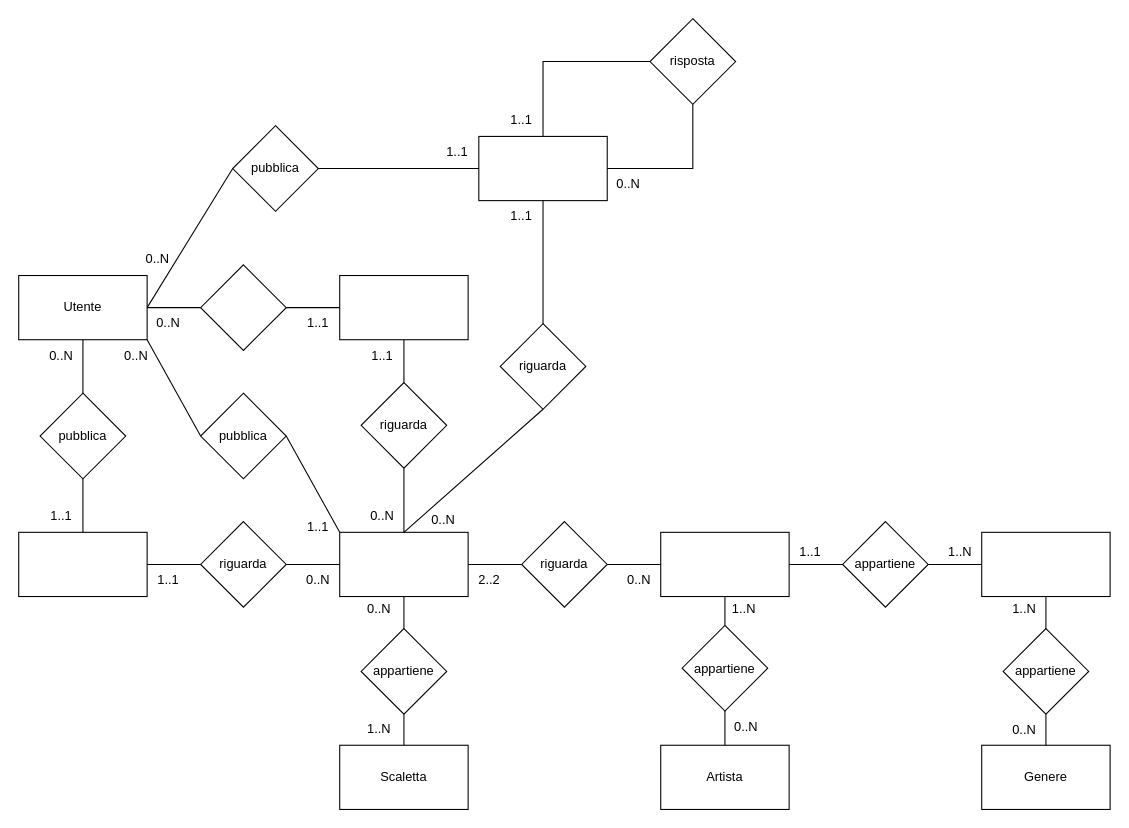
This 1129x828 diagram has some shape labels left out. The box of each missing label's shape, as (x1, y1, x2, y2) in pixels:
Album: (981, 531, 1110, 597)
Brano: (660, 531, 789, 597)
Commento: (478, 135, 607, 201)
effettua: (200, 264, 286, 350)
Passaggio: (339, 531, 468, 597)
Valutazione: (18, 531, 147, 597)
Visualizzazione: (339, 274, 468, 340)
